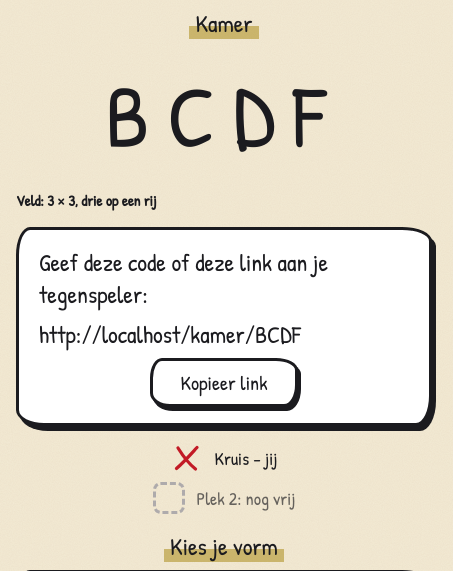
it: RoomPage › while waiting for a second player › copies the link
Click the button "Kopieer link".
click(224, 382)  # box [150, 358, 298, 407]
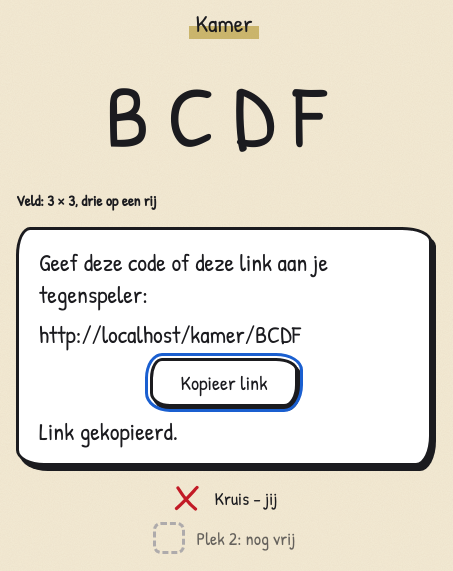
expect the text "Link gekopieerd." is shown: met, box [39, 415, 178, 447]
